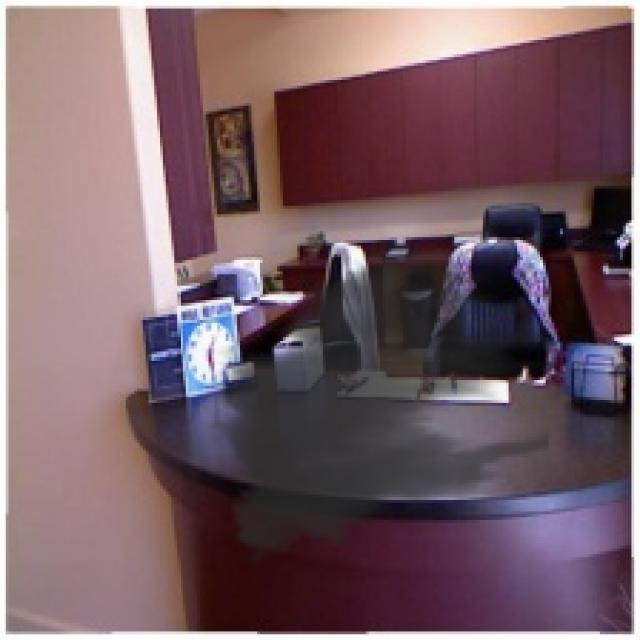Smoke: (200, 228, 549, 572)
